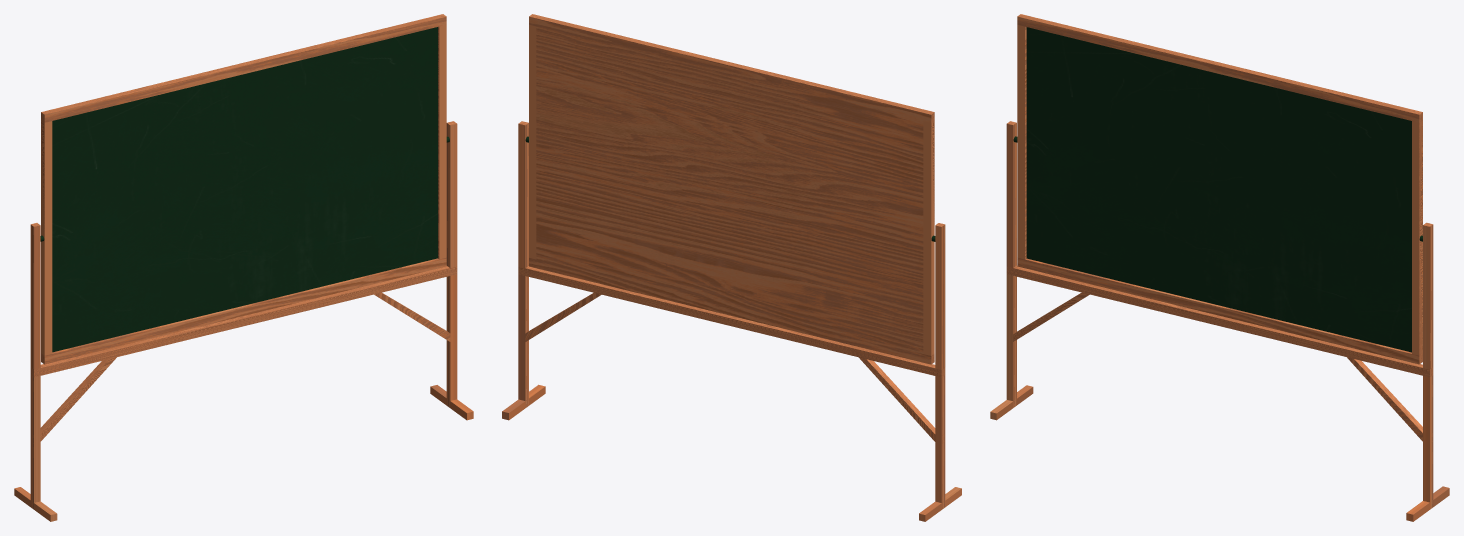
File: tablica.fbx
3 renders of one model, left to right at view 1: azimuth 30°, elevation 25°; view 2: azimuth 150°, elevation 25°; view 3: azimuth 330°, elevation 25°, orthographic.
Parts seen in each view (by area): view 1: Cube; view 2: Cube; view 3: Cube.
Part boxes in pixels (left/top/right/bottom): Cube: left=14, top=14, right=473, bottom=521; Cube: left=502, top=14, right=961, bottom=521; Cube: left=990, top=14, right=1449, bottom=521.
Bounding box in the file's own units: 1321 × 1171 × 197.
